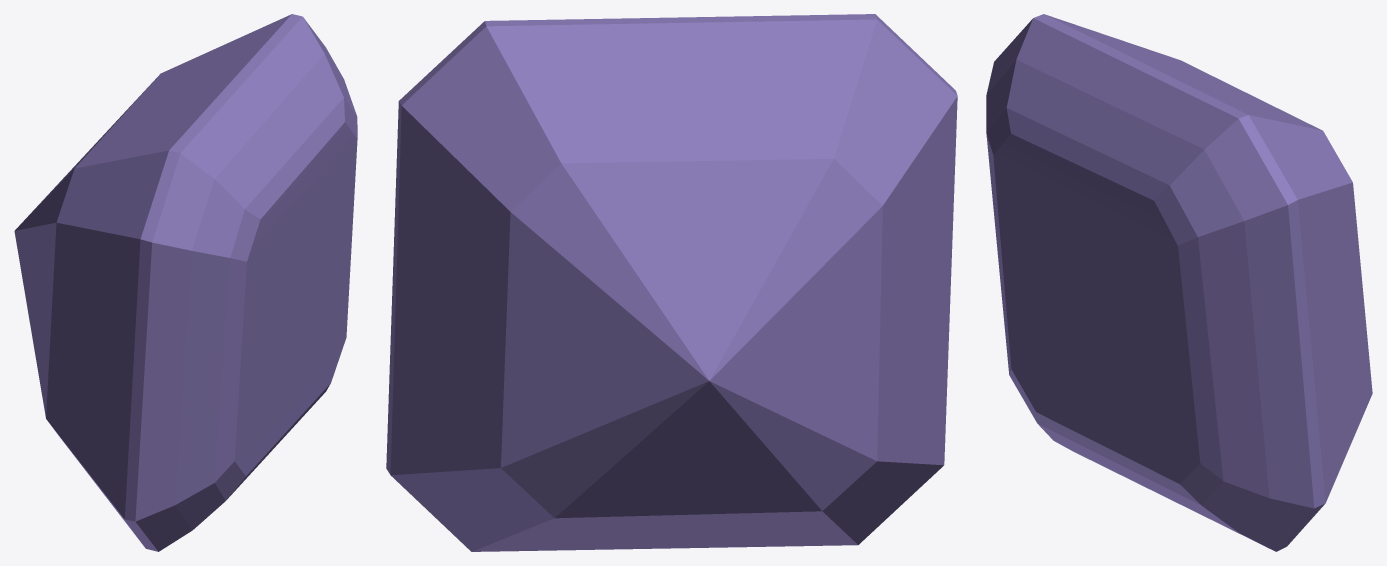
The model's file is BR3_8shapes_Square_Classic_Stone.001 3.glb.
3 views of the same model, side by side, from view 1: azimuth 30°, elevation 25°; view 2: azimuth 150°, elevation 25°; view 3: azimuth 270°, elevation 25° (orthographic). The views are drawn at different scales.
Visible parts, largest first — view 1: BR3_8shapes_Square_Classic_Stone.001; view 2: BR3_8shapes_Square_Classic_Stone.001; view 3: BR3_8shapes_Square_Classic_Stone.001.
Boxes of the visible parts, bbox=[...] form: BR3_8shapes_Square_Classic_Stone.001: bbox=[14, 14, 357, 551]; BR3_8shapes_Square_Classic_Stone.001: bbox=[386, 14, 957, 551]; BR3_8shapes_Square_Classic_Stone.001: bbox=[986, 14, 1372, 551].
Size of the model in its own units: 0.3748 by 0.4551 by 0.3555.
